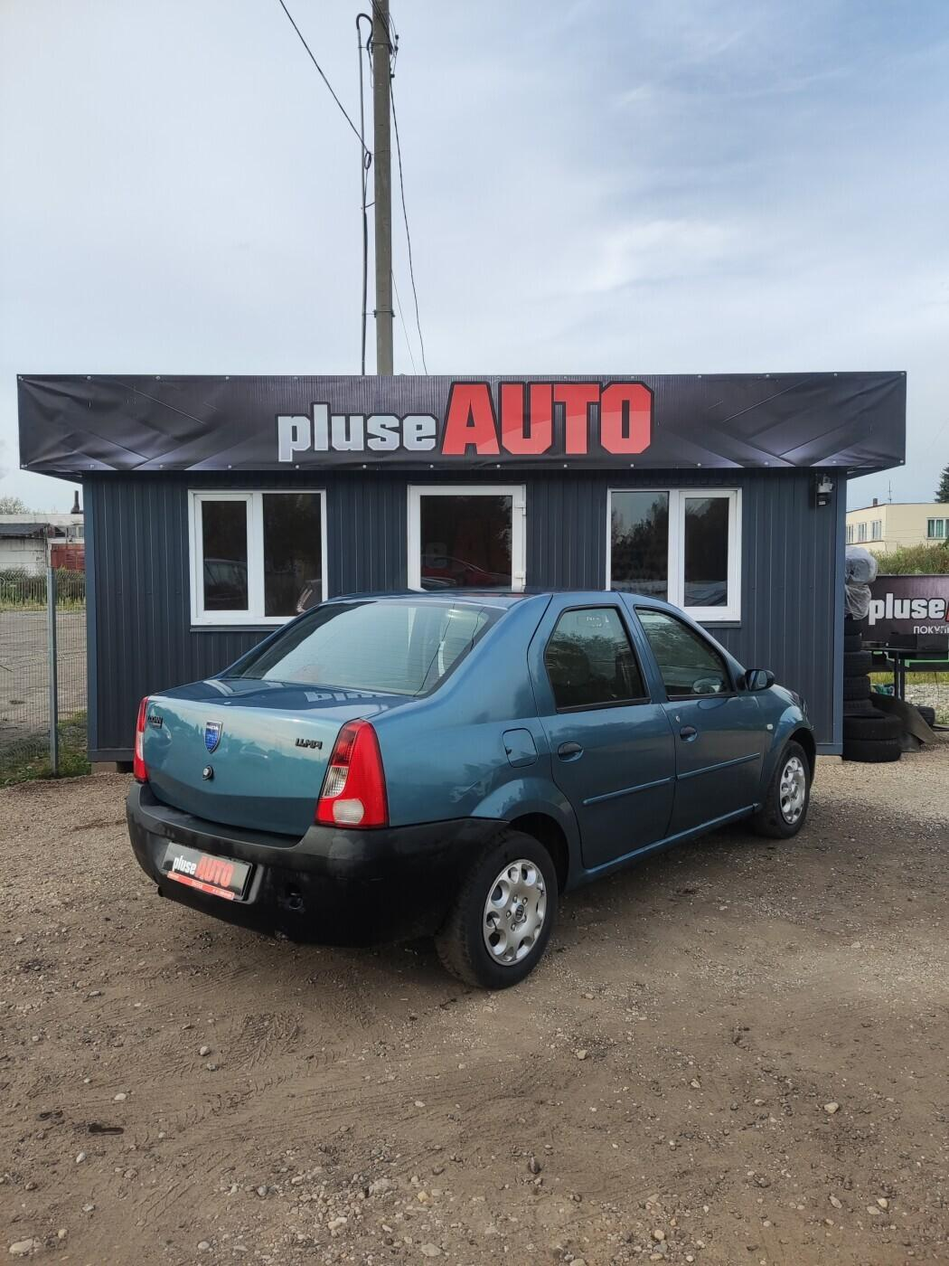Logan_2004-2009: (116, 586, 828, 997)
